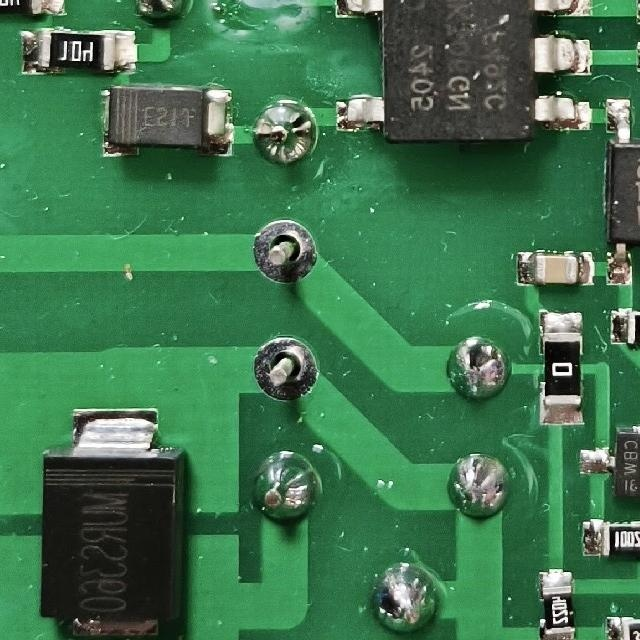chip-capacitor: (513, 247, 598, 289)
chip-resistor: (17, 25, 140, 76), (536, 308, 588, 428), (534, 568, 577, 640), (575, 515, 640, 559)
diode: (34, 401, 194, 640), (97, 80, 236, 160)
ic: (328, 0, 596, 149)
transistor: (575, 418, 640, 502)
